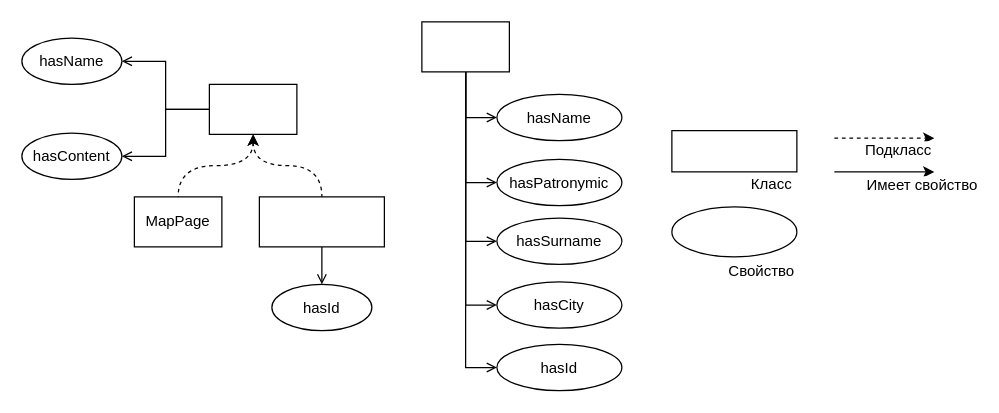
The diagram is 999 pixels wide and 413 high, and some of its shapes have lost their labels. The box of each missing label's shape, as (x1, y1, x2, y2) in pixels:
ClassName: (671, 129, 797, 172)
Page: (208, 83, 297, 134)
PropertyName: (671, 206, 797, 257)
User: (421, 21, 509, 72)
WelcomePage: (258, 196, 384, 247)
